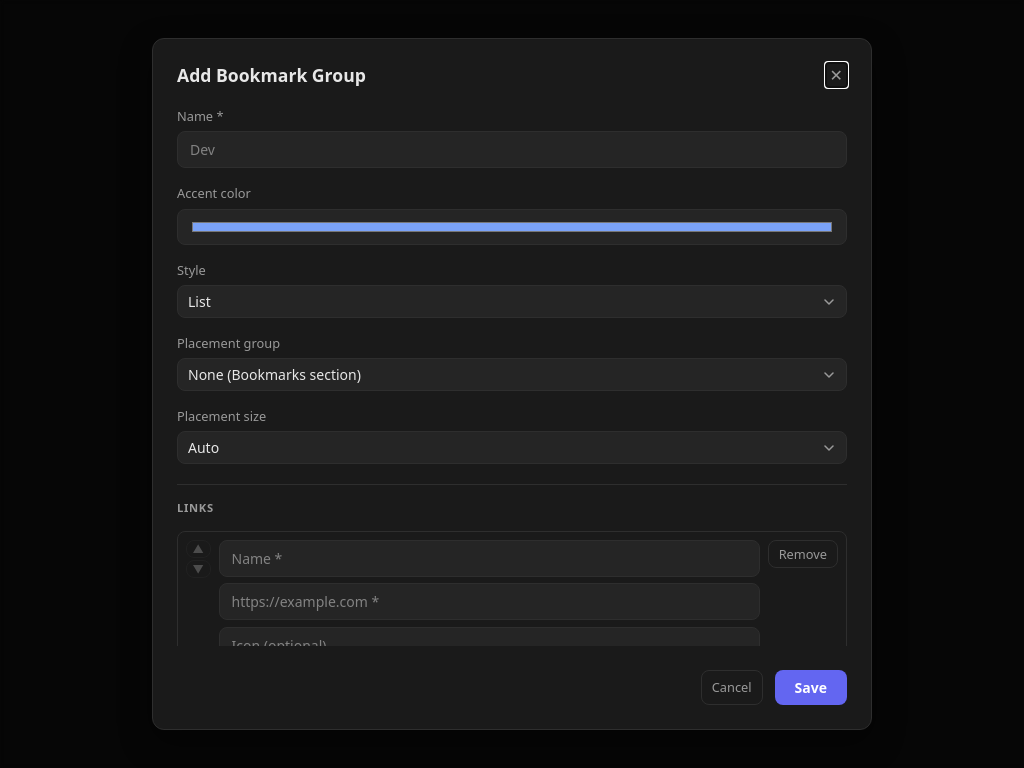
Scenario: BookmarkGroupForm – validation › rejects a duplicate group name (case-insensitive)
Type "dev" into the 1st field labelled "Name *".
click(512, 150); type("dev")  # box [177,131,847,168]
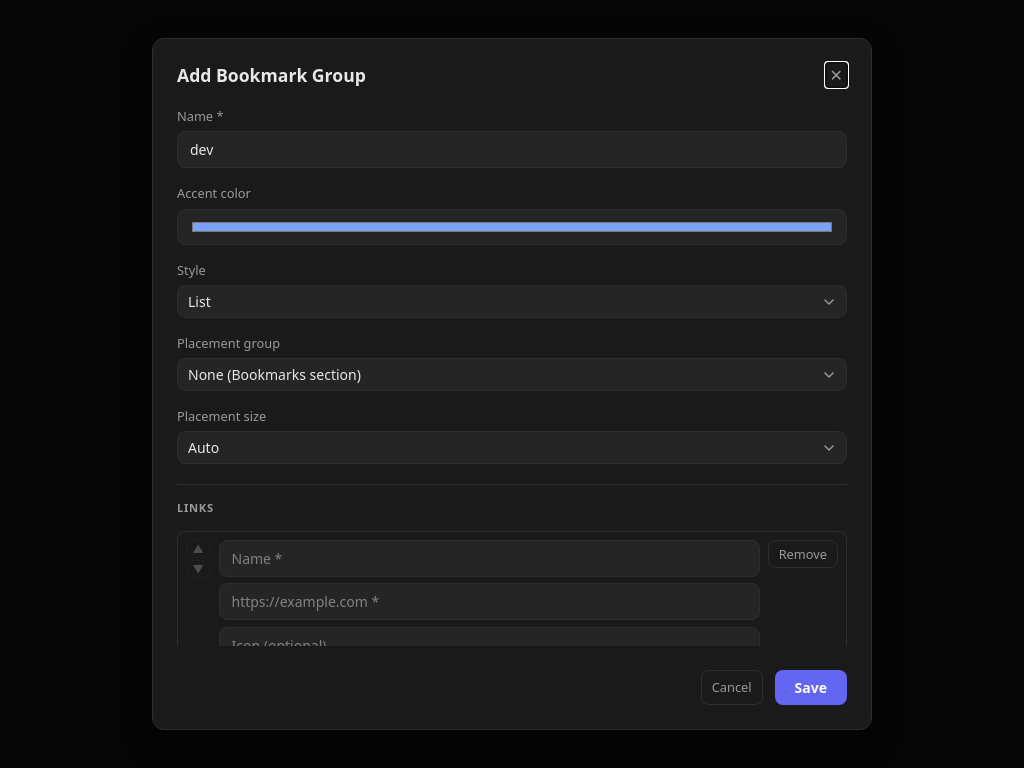
Click the button "Save".
click(811, 687)  # box [775,670,847,705]
(page scrolled)
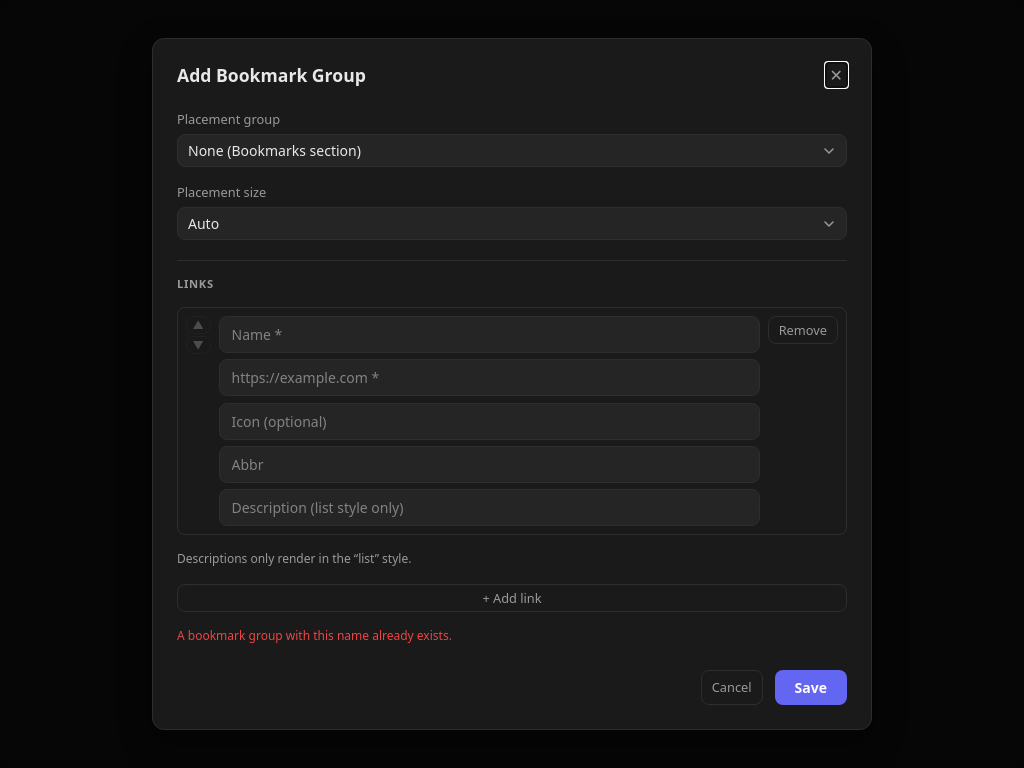
Check: the text "A bookmark group with this name already exists." is shown, box [177,627,452,644]
